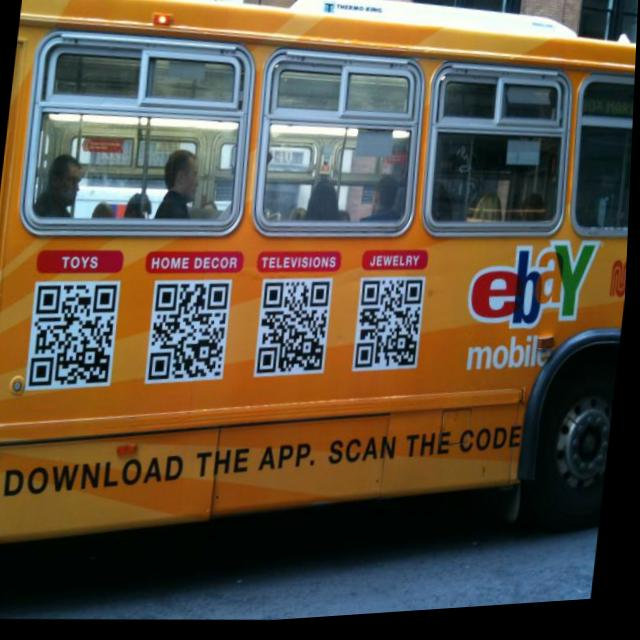qrcode: (32, 283, 122, 393), (151, 282, 234, 388), (259, 282, 335, 382), (357, 282, 427, 378)
